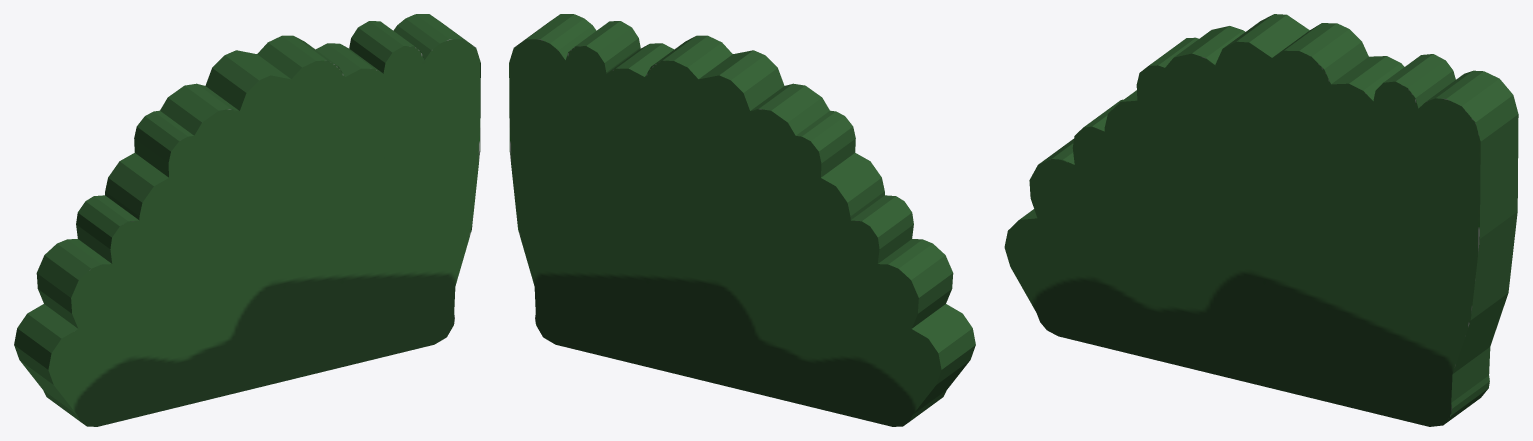
File: GrassTuft05.fbx
3 views of the same model, side by side, from view 1: azimuth 30°, elevation 25°; view 2: azimuth 150°, elevation 25°; view 3: azimuth 330°, elevation 25° (orthographic). The views are drawn at different scales.
Parts seen in each view (by area): view 1: Grass05; view 2: Grass05; view 3: Grass05.
Boxes of the visible parts, left/top/right/bottom form: Grass05: left=14, top=14, right=480, bottom=426; Grass05: left=509, top=14, right=975, bottom=426; Grass05: left=1004, top=14, right=1518, bottom=426.
Bounding box in the file's own units: 0.3451 × 0.2384 × 0.0475.
